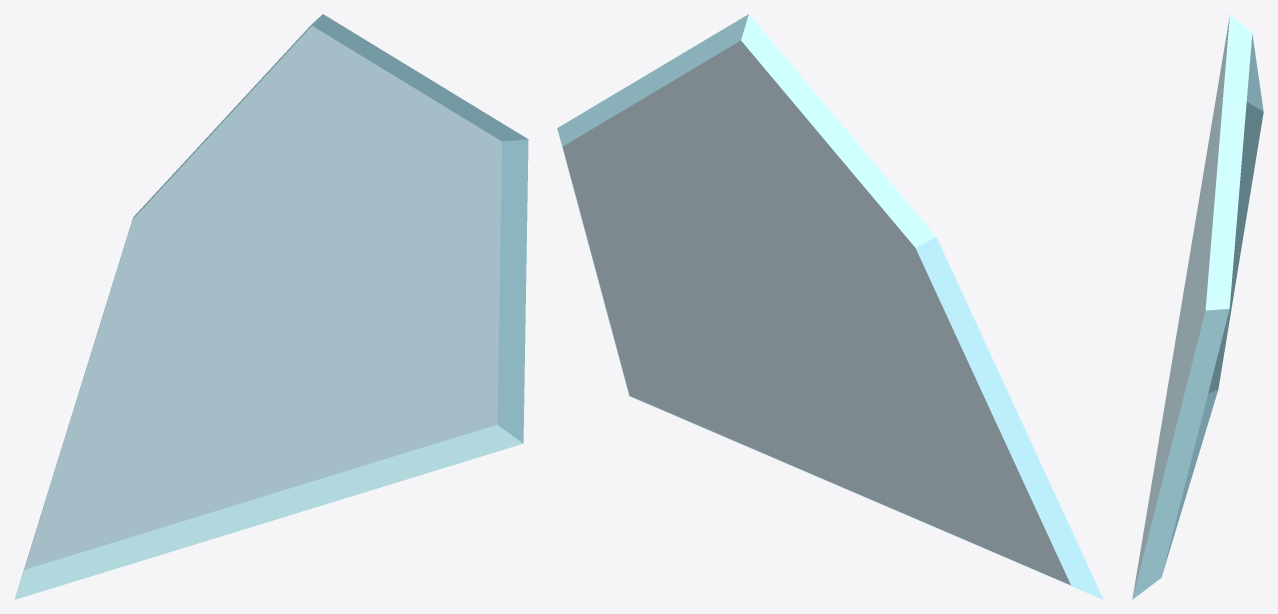
Rendered from snow_globe_shard_left.glb.
3 views of the same model, side by side, from view 1: azimuth 30°, elevation 25°; view 2: azimuth 150°, elevation 25°; view 3: azimuth 270°, elevation 25° (orthographic). The views are drawn at different scales.
Visible parts, largest first — view 1: New faceted glass segment.004; view 2: New faceted glass segment.004; view 3: New faceted glass segment.004.
Part boxes in pixels (left/top/right/bottom): New faceted glass segment.004: left=14, top=14, right=528, bottom=599; New faceted glass segment.004: left=557, top=14, right=1103, bottom=599; New faceted glass segment.004: left=1132, top=14, right=1263, bottom=599.
Bounding box in the file's own units: 0.056 × 0.051 × 0.0108.
